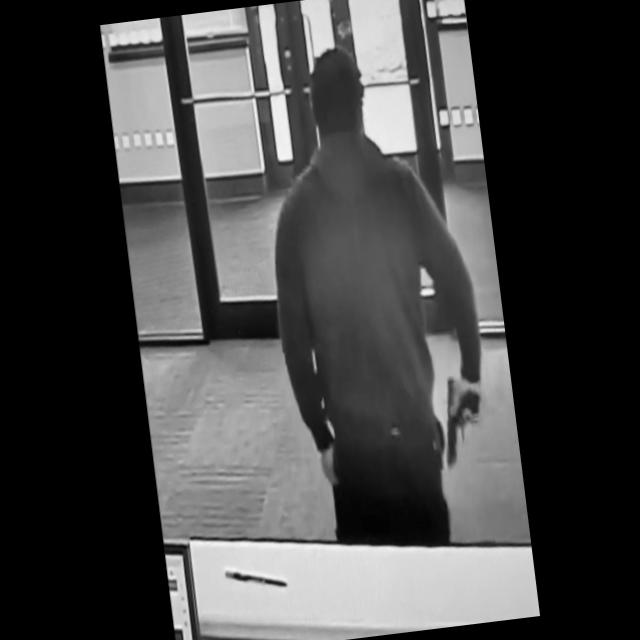gun: (434, 371, 490, 468)
person with a gun: (244, 33, 506, 567)
